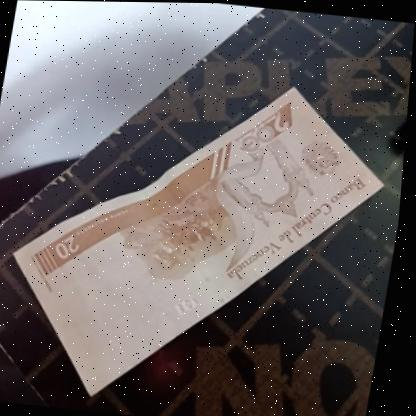twenty-back-vef: (0, 60, 407, 416)
